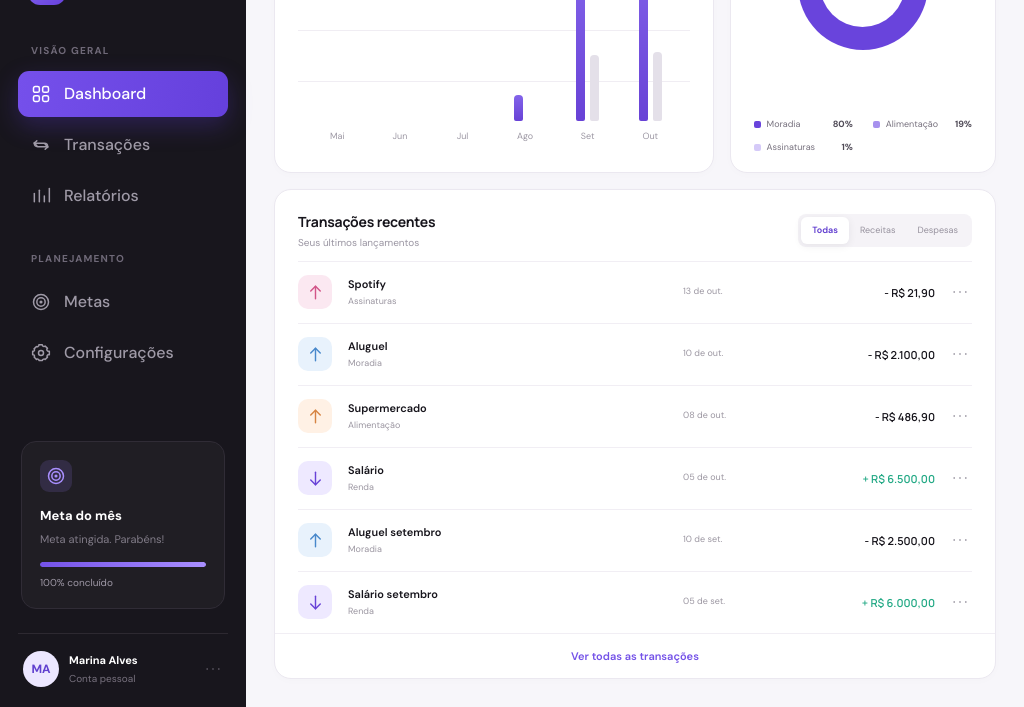
Test: Criar, editar e excluir transações › edita uma transação pelo menu ⋯
(page scrolled)
Click the button named "Opções de Aluguel" at (960, 354), box [950,344,970,364]
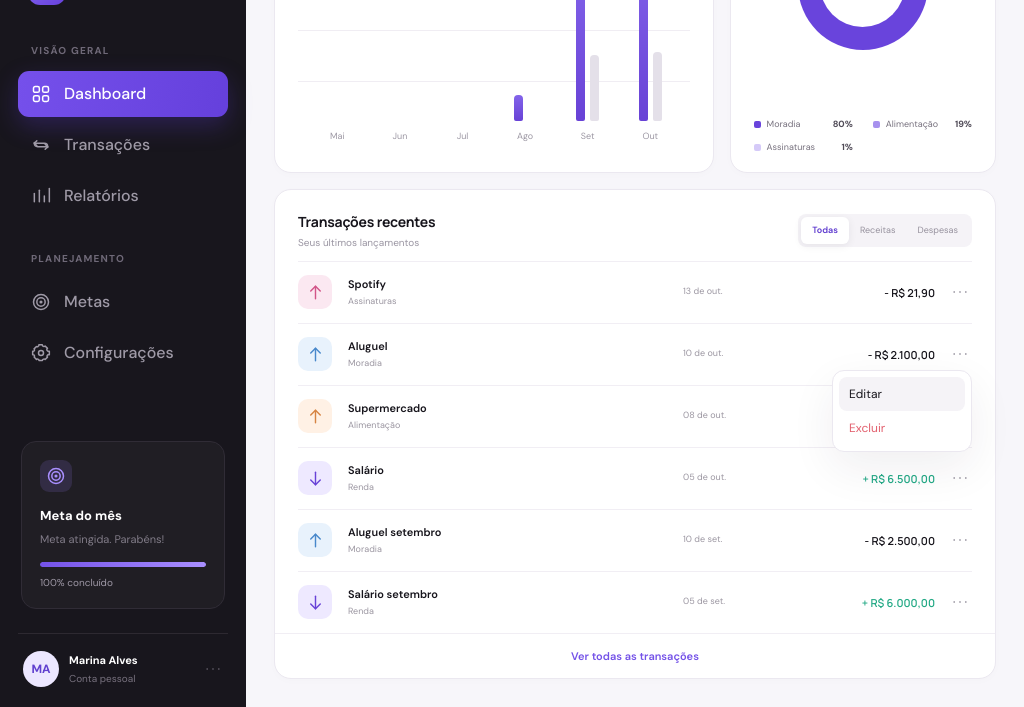
Click the menu item "Editar" at (902, 394), box [839,377,965,411]
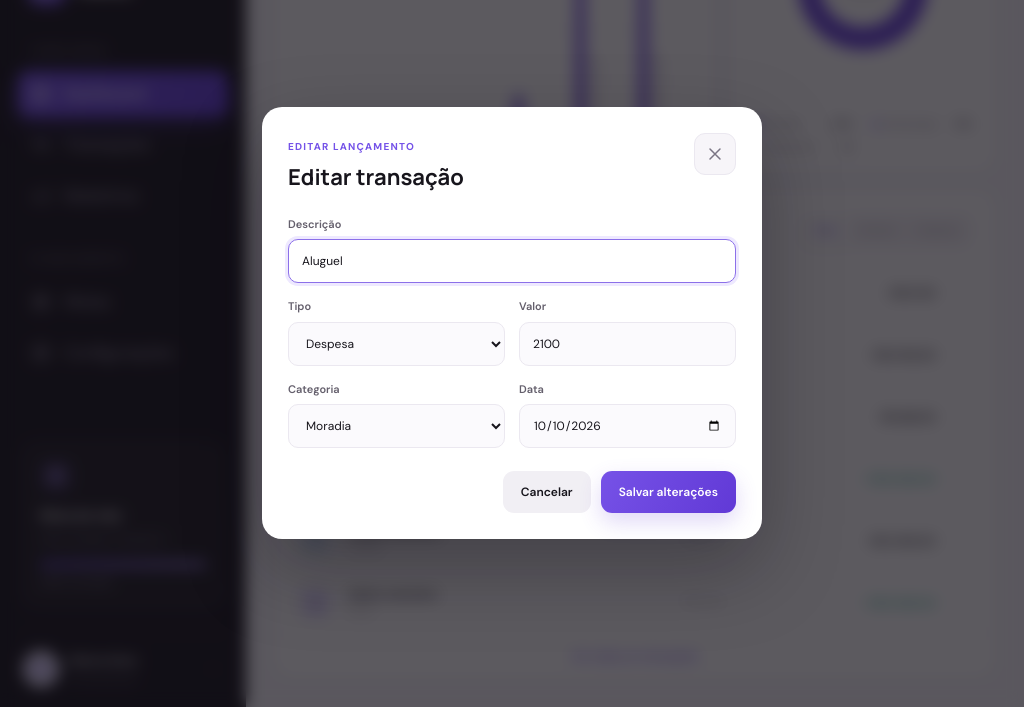
Expected: the field labelled "Descrição" holds "Aluguel", [288,239,736,283]
Expected: the number field labelled "Valor" holds "2100"
Expected: the dropdown labelled "Categoria" shows "Moradia", [288,404,505,448]
Replace the text in the number field labelled "Valor" with "2200" at (628, 344), box [519,322,736,366]
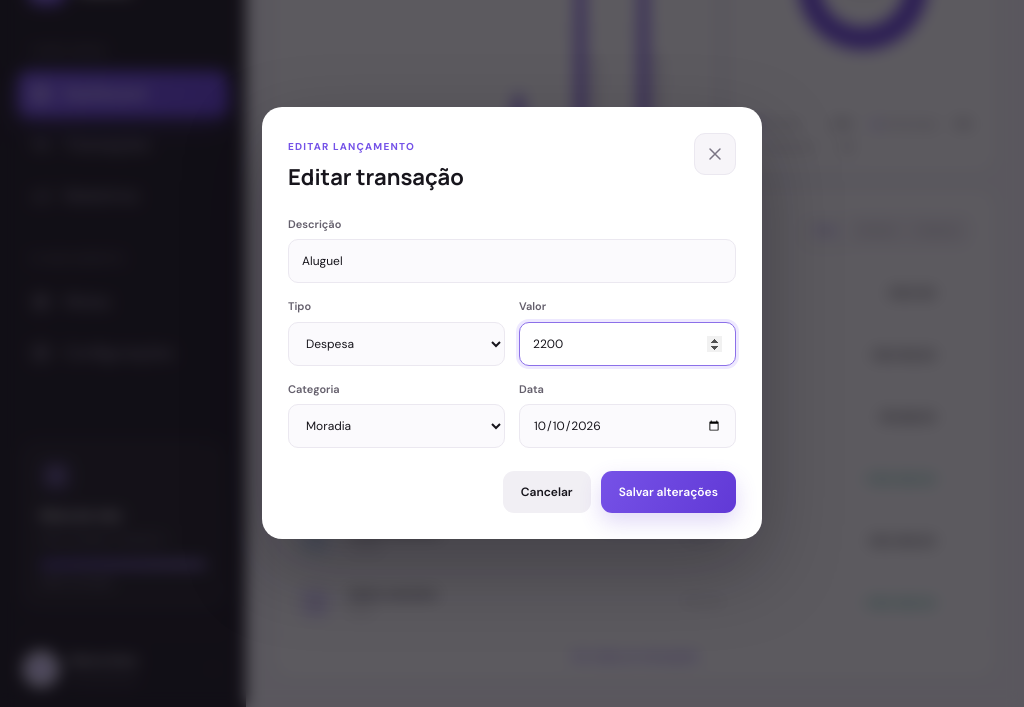
Click the button "Salvar alterações" at (668, 492), box [601,471,736,513]
(page scrolled)
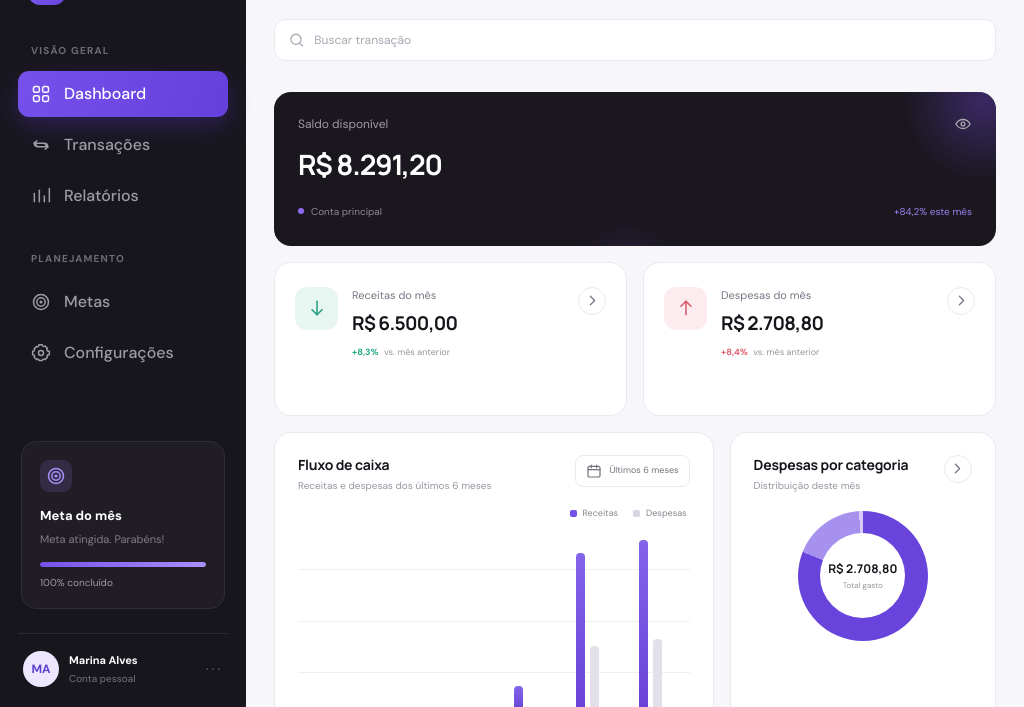
Expected: the dialog is gone
